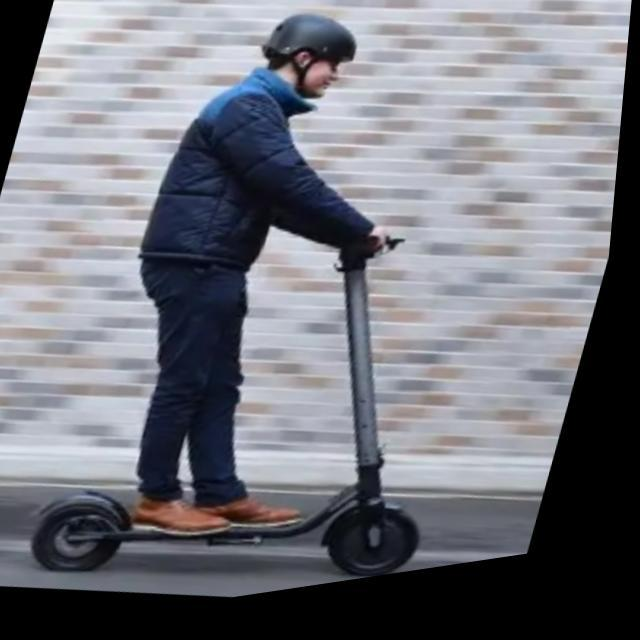Helmet: (252, 3, 365, 110)
